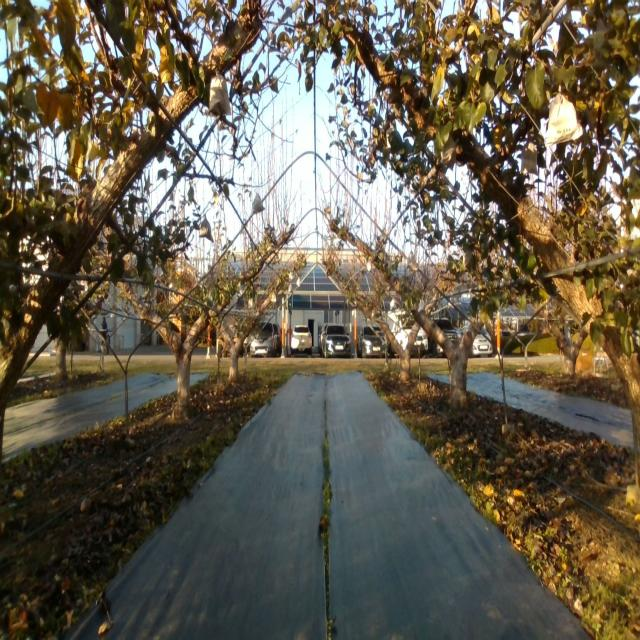pearbags: (546, 90, 583, 146), (209, 75, 231, 115), (520, 142, 538, 175), (200, 215, 213, 241), (252, 193, 266, 214), (406, 251, 418, 271)
